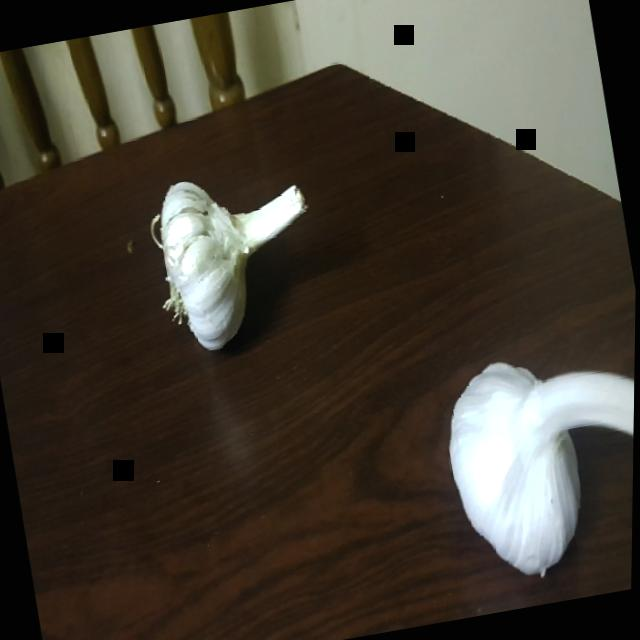garlic: (417, 318, 636, 605), (136, 161, 337, 363)
